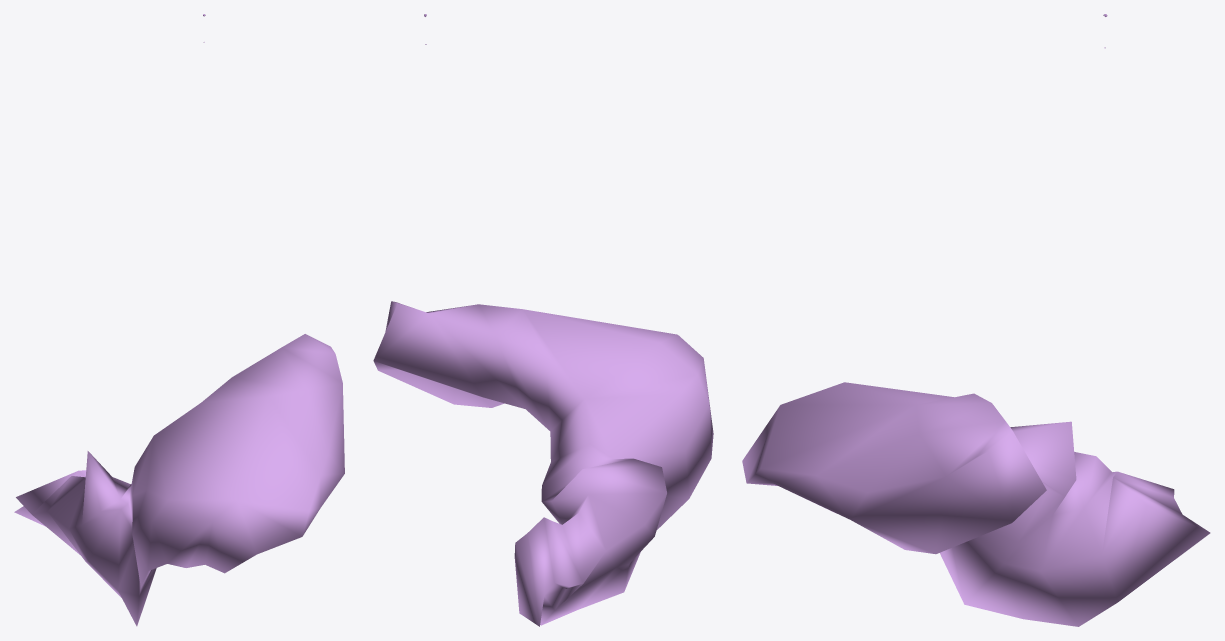
File: brain_reference.glb
3 views of the same model, side by side, from view 1: azimuth 30°, elevation 25°; view 2: azimuth 150°, elevation 25°; view 3: azimuth 270°, elevation 25° (orthographic). The views are drawn at different scales.
Parts seen in each view (by area): view 1: Orbital part of inferior frontal gyrus.r; view 2: Orbital part of inferior frontal gyrus.r; view 3: Orbital part of inferior frontal gyrus.r.
Boxes of the visible parts, x1=… form: Orbital part of inferior frontal gyrus.r: x1=14, y1=334, x2=344, y2=626; Orbital part of inferior frontal gyrus.r: x1=373, y1=301, x2=713, y2=626; Orbital part of inferior frontal gyrus.r: x1=742, y1=382, x2=1210, y2=626.
Size of the model in its own units: 16.29 by 33.49 by 21.23.
